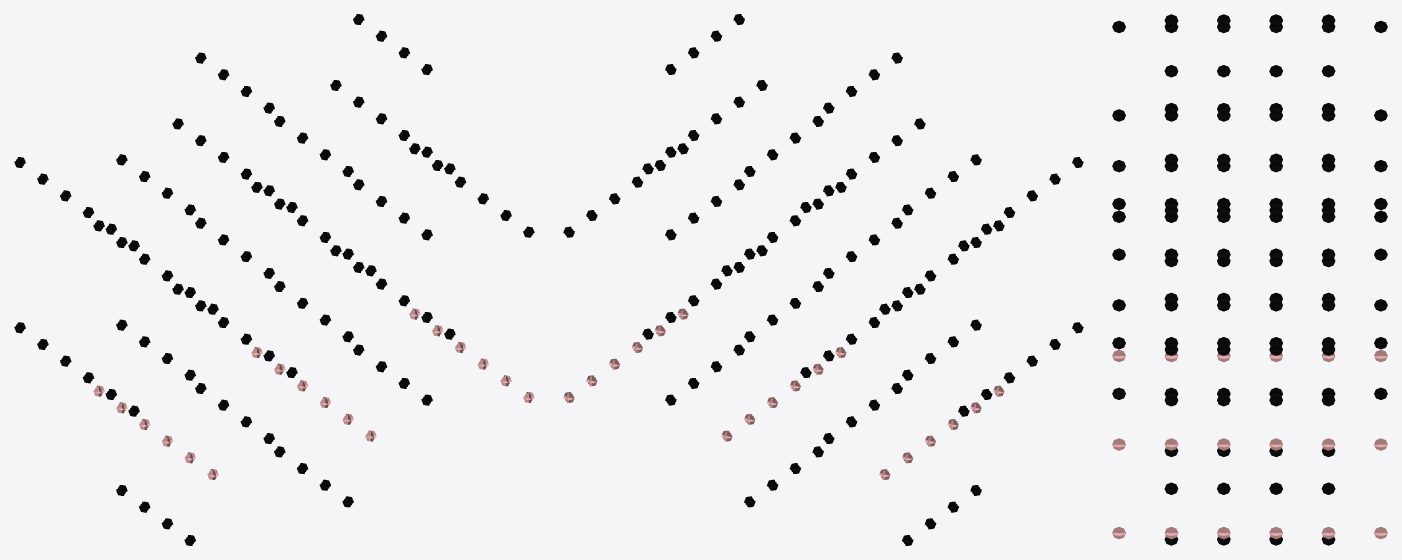
File: matchgraph_d=5_rounds=5_p=0.001.gltf
3 renders of one model, left to right at view 1: azimuth 30°, elevation 25°; view 2: azimuth 150°, elevation 25°; view 3: azimuth 270°, elevation 25°, orthographic. The views are drawn at different scales.
Bounding box in the file's own units: 30.8 × 30.8 × 15.8.
